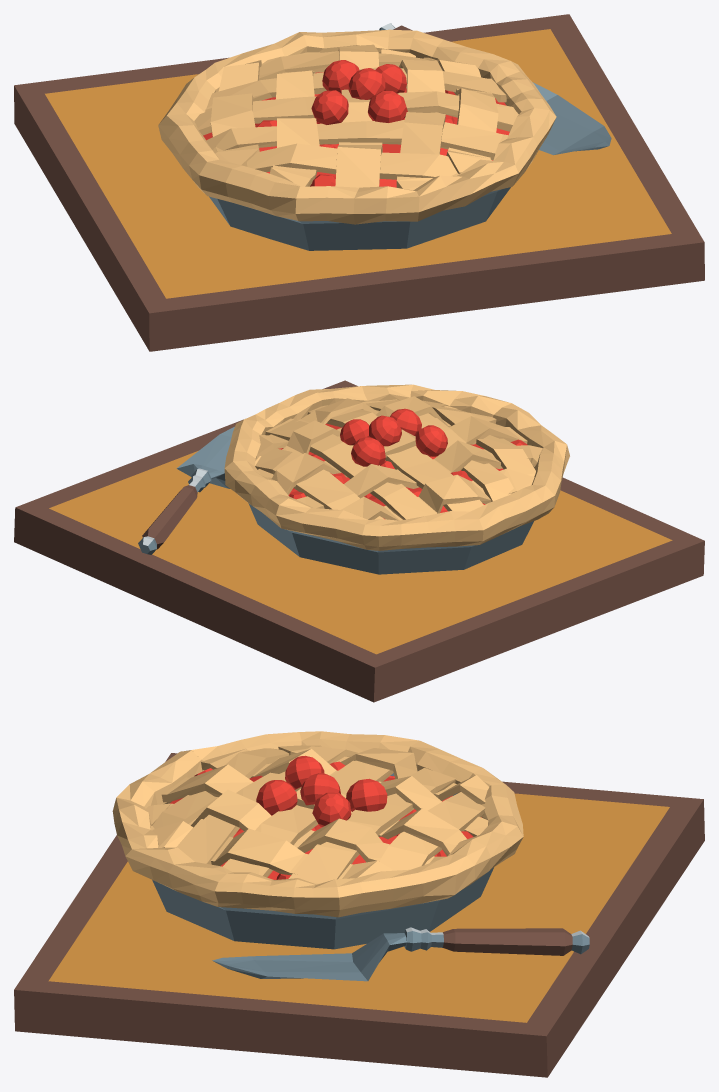
File: Pie.fbx
The picture shows the model from 3 angles, top to bottom: view 1: azimuth 30°, elevation 25°; view 2: azimuth 150°, elevation 25°; view 3: azimuth 270°, elevation 25°; orthographic projection. The views are drawn at different scales.
Visible parts, largest first — view 1: group_1213734719; view 2: group_1213734719; view 3: group_1213734719.
Part boxes in pixels (x1,y1,x2,y2): group_1213734719: (14,14,704,351); group_1213734719: (14,380,704,702); group_1213734719: (14,731,704,1077).
Bounding box in the file's own units: 337 × 85.76 × 321.
